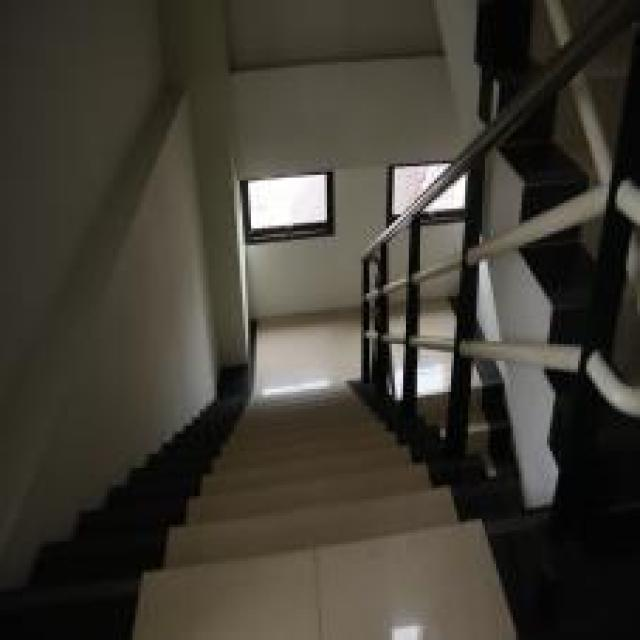downstair: (159, 424, 432, 638)
